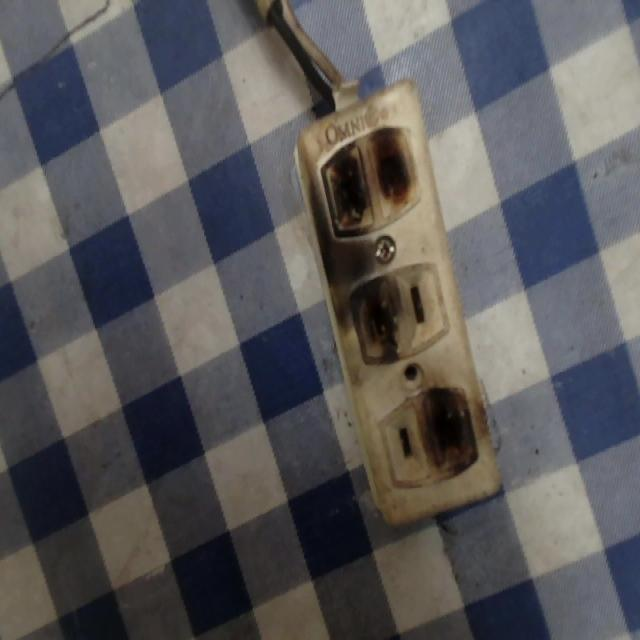-: (313, 123, 423, 235), (341, 260, 412, 372), (414, 379, 485, 477)
